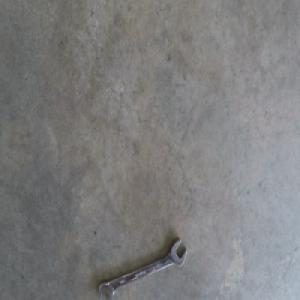Wrench: (98, 239, 186, 295)
